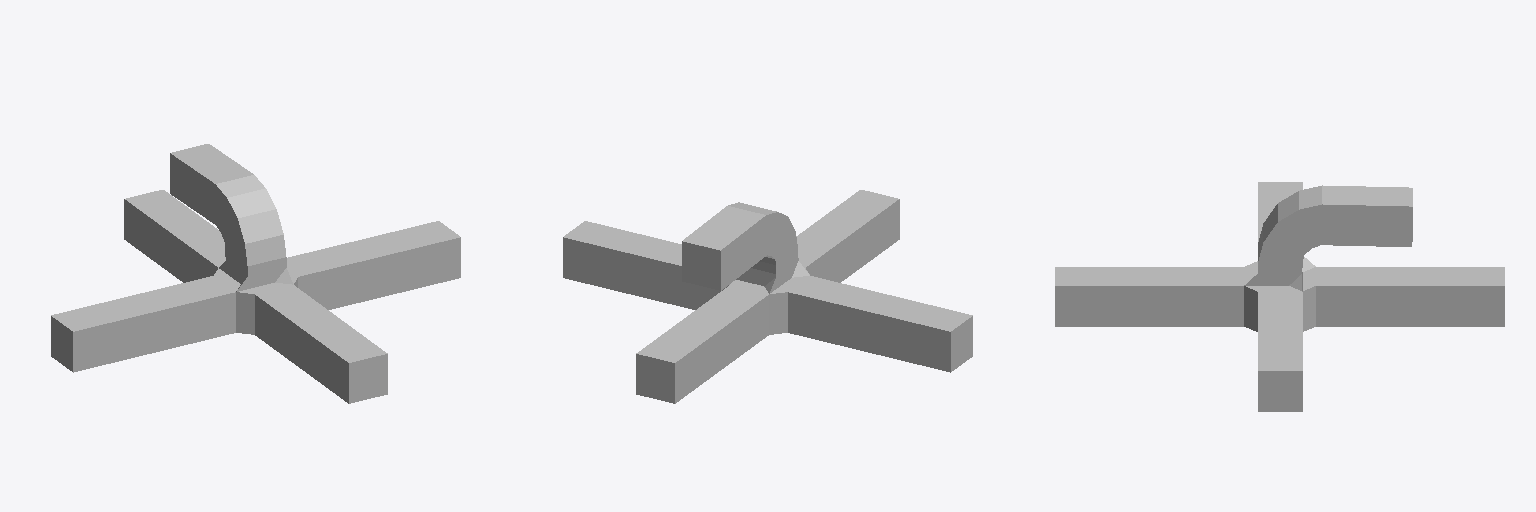
Rendered from tutorial_lvl.obj.
3 renders of one model, left to right at view 1: azimuth 30°, elevation 25°; view 2: azimuth 150°, elevation 25°; view 3: azimuth 270°, elevation 25°, orthographic.
Visible parts, largest first — view 1: Cube; view 2: Cube; view 3: Cube.
Part boxes in pixels (x1,y1,x2,y2): Cube: (51, 144, 460, 403); Cube: (563, 190, 972, 403); Cube: (1055, 182, 1504, 411).
Bounding box in the file's own units: 39.87 × 11.98 × 39.95.